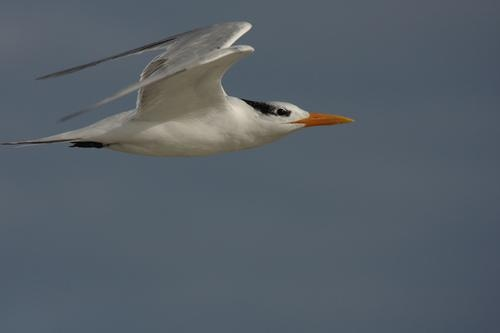bird: (3, 19, 355, 157)
